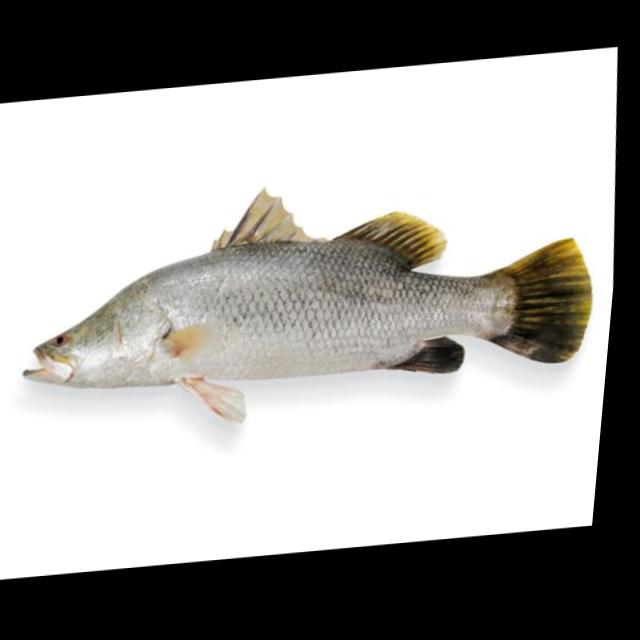Seabass: (2, 159, 612, 443)
